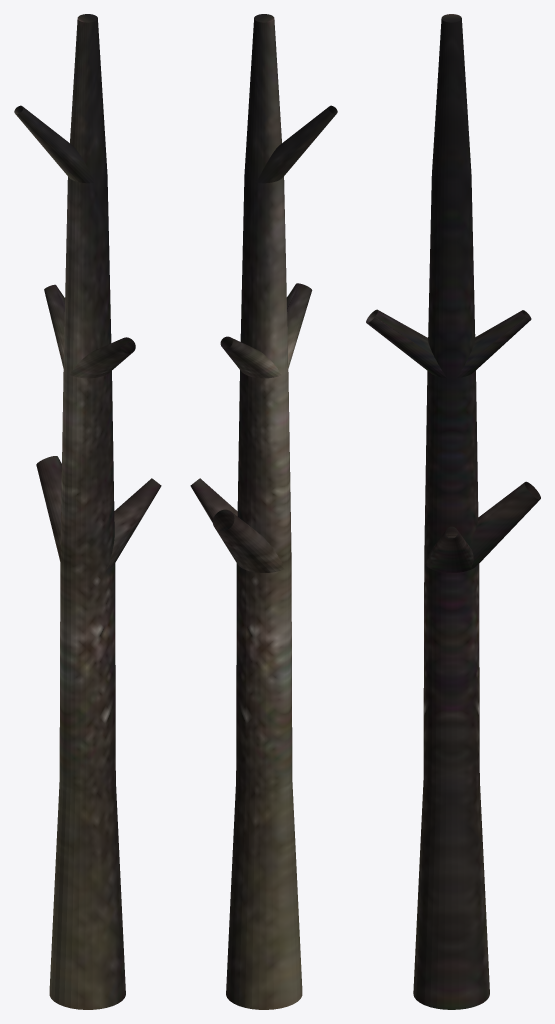
The model's file is lagundi_stem.fbx.
3 views of the same model, side by side, from view 1: azimuth 30°, elevation 25°; view 2: azimuth 150°, elevation 25°; view 3: azimuth 270°, elevation 25° (orthographic).
Parts seen in each view (by area): view 1: Cylinder.002; view 2: Cylinder.002; view 3: Cylinder.002.
Part boxes in pixels (x1,y1,x2,y2): Cylinder.002: [14, 14, 161, 1009]; Cylinder.002: [190, 14, 337, 1009]; Cylinder.002: [366, 14, 540, 1009].
Size of the model in its own units: 29.54 by 189 by 30.81.
